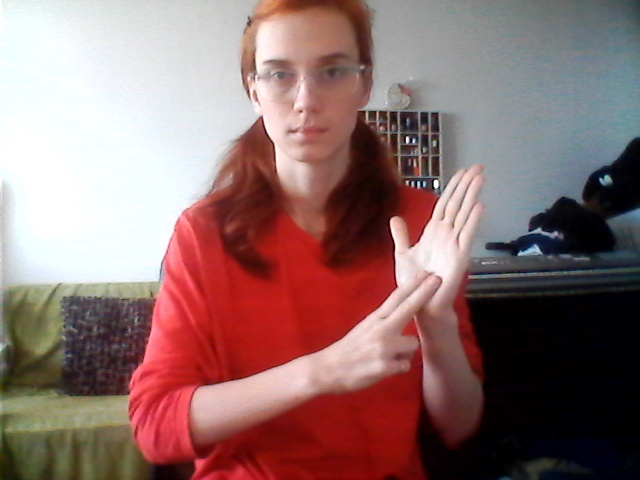n: (360, 164, 494, 384)
